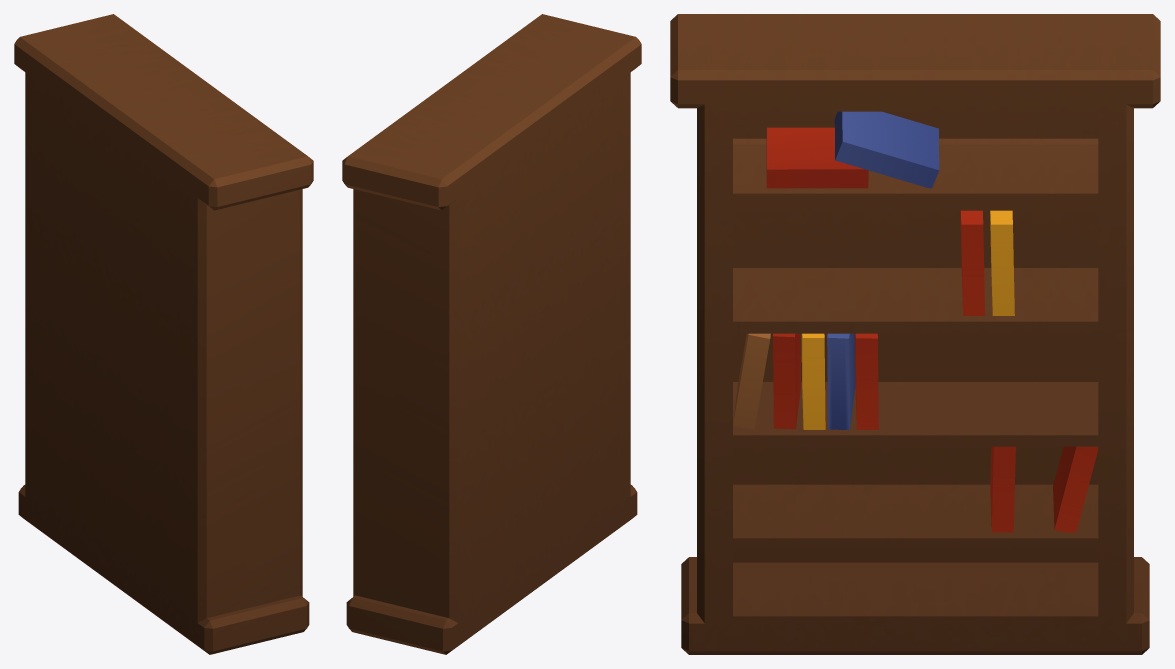
The model's file is N2Kirjahylly.fbx.
The picture shows the model from 3 angles, left to right: view 1: azimuth 30°, elevation 25°; view 2: azimuth 150°, elevation 25°; view 3: azimuth 270°, elevation 25°; orthographic projection. The views are drawn at different scales.
Parts seen in each view (by area): view 1: pCube1; view 2: pCube1; view 3: pCube1, pCube13, pCube3, pCube6, pCube8, pCube5, pCube10, pCube12, pCube4, pCube7, pCube11, pCube9.
Part boxes in pixels (box(x1,y1,x2,y2)): pCube1: box(14, 14, 313, 654); pCube1: box(342, 14, 641, 654); pCube1: box(670, 14, 1160, 654); pCube13: box(834, 111, 939, 188); pCube3: box(766, 127, 868, 188); pCube6: box(1053, 446, 1098, 532); pCube8: box(827, 333, 855, 429); pCube5: box(773, 333, 800, 429); pCube10: box(990, 210, 1014, 315); pCube12: box(960, 210, 985, 315); pCube4: box(733, 333, 770, 429); pCube7: box(801, 333, 825, 429); pCube11: box(855, 333, 878, 429); pCube9: box(990, 446, 1015, 532).
Size of the model in its own units: 2.4 by 10.44 by 7.94.
